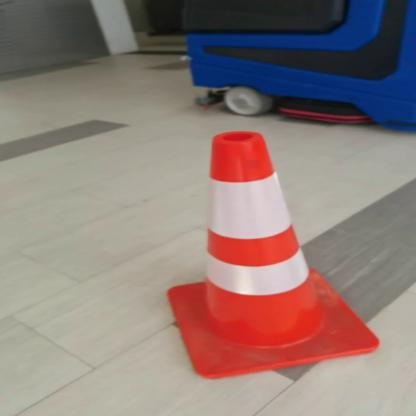cone: (126, 131, 394, 377)
